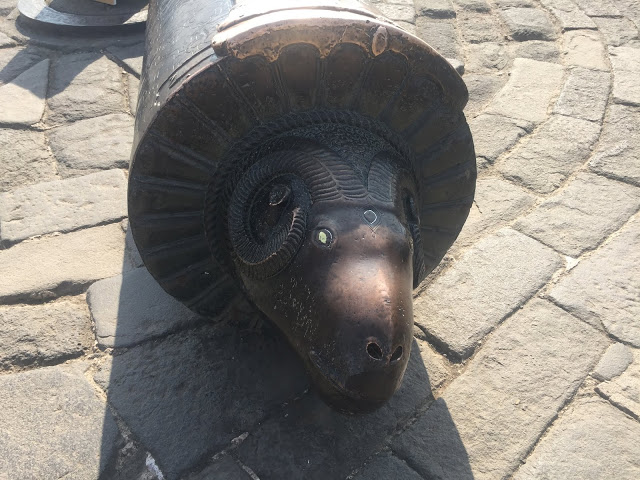Mendha Tope: (7, 5, 635, 471)
